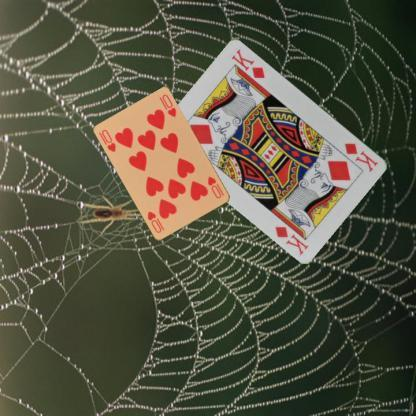10h: (205, 174, 225, 200), (100, 127, 118, 154)
Kd: (342, 140, 380, 174)
